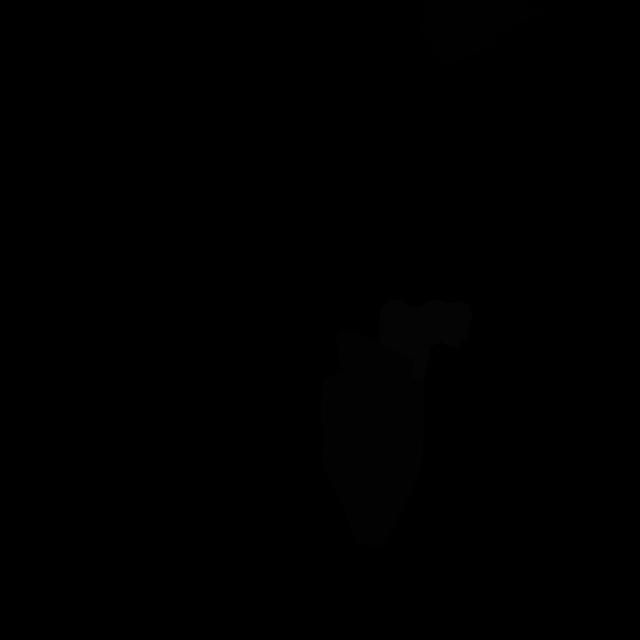cardboard: (320, 330, 424, 545)
rigid_plastic: (420, 0, 544, 65)
soft_plastic: (379, 299, 472, 379)
